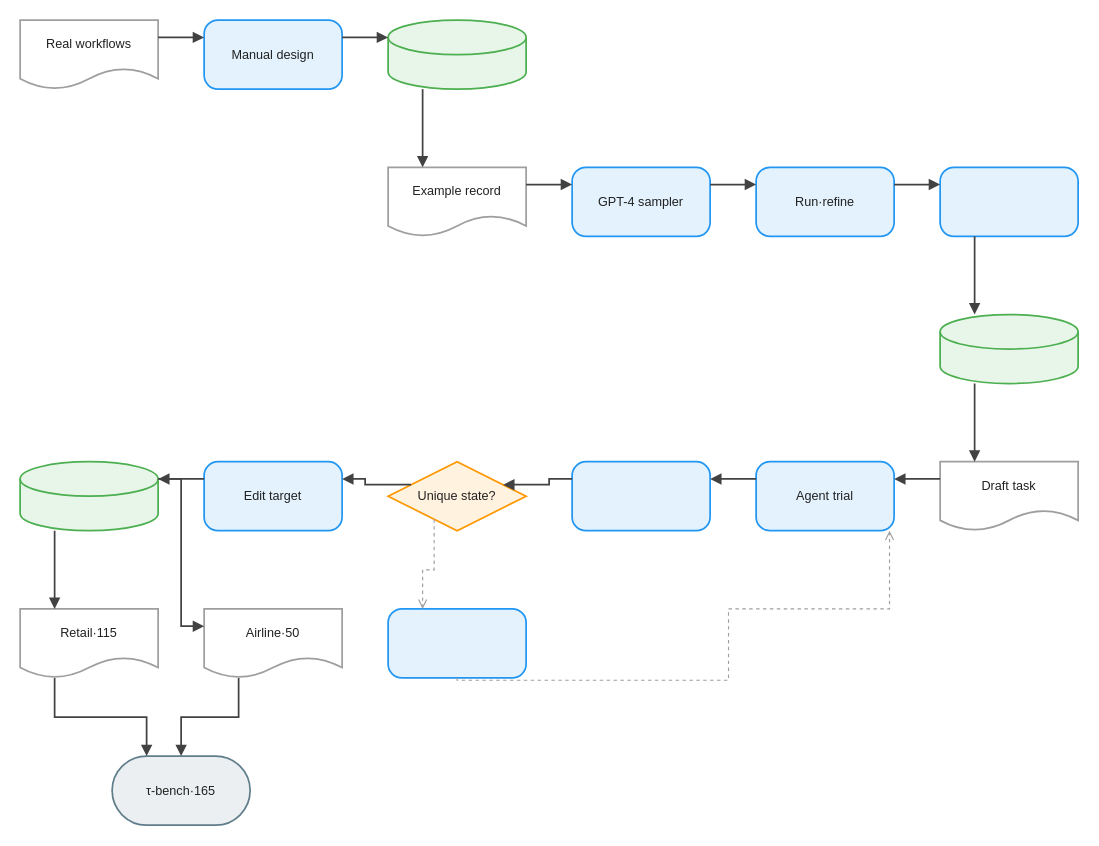
The diagram is 1099 pixels wide and 846 high, and some of its shapes have lost their labels. Each missing label, with the centre of its shape:
"Disambiguate" belongs at point 456,643.
"Domain assets" belongs at point 456,54.
"Final tasks" belongs at point 88,495.
"Human polish" belongs at point 1008,201.
"JSON databases" belongs at point 1008,348.
"Review trace" belongs at point 640,495.
